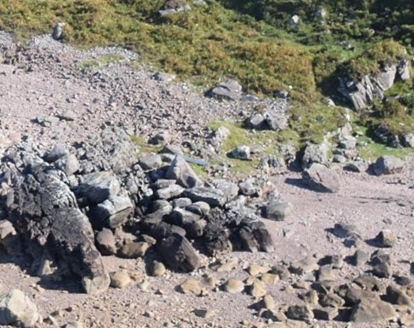straight_bar: (178, 147, 211, 173)
